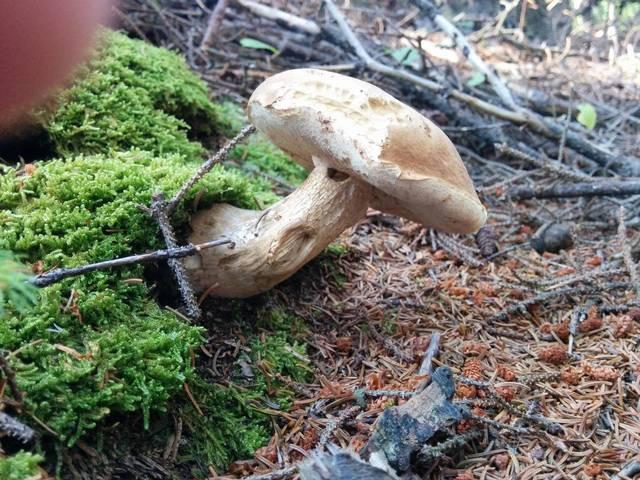poisonous_mushroom: (171, 65, 488, 301)
